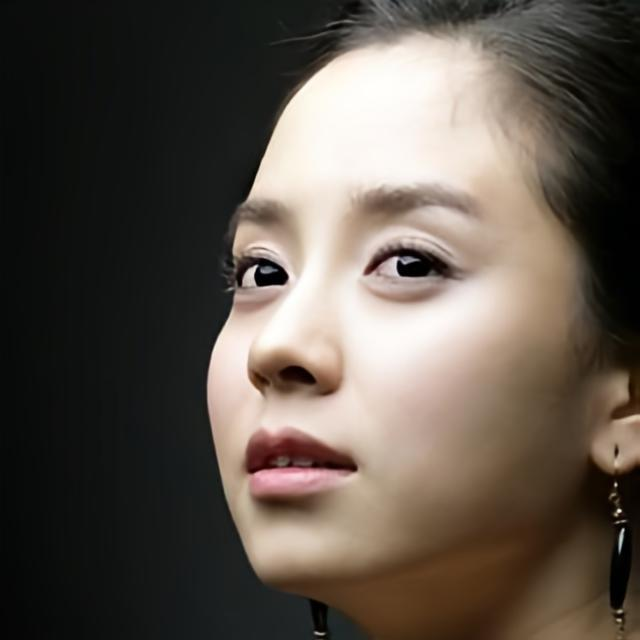neutral: (204, 12, 594, 597)
